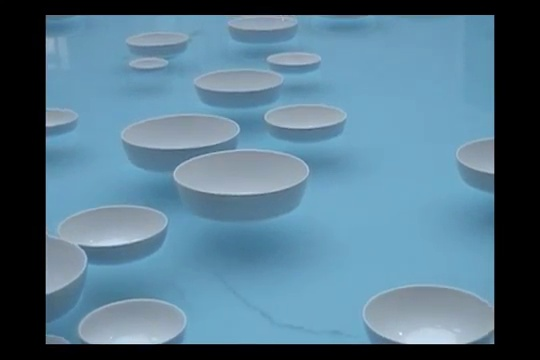bowl: (173, 151, 310, 222), (361, 283, 494, 344), (122, 113, 242, 172), (58, 205, 170, 264), (79, 296, 188, 343), (46, 236, 88, 322), (194, 69, 284, 107), (262, 105, 347, 142), (227, 15, 297, 44), (126, 32, 190, 58), (267, 52, 322, 73), (129, 58, 169, 73)
